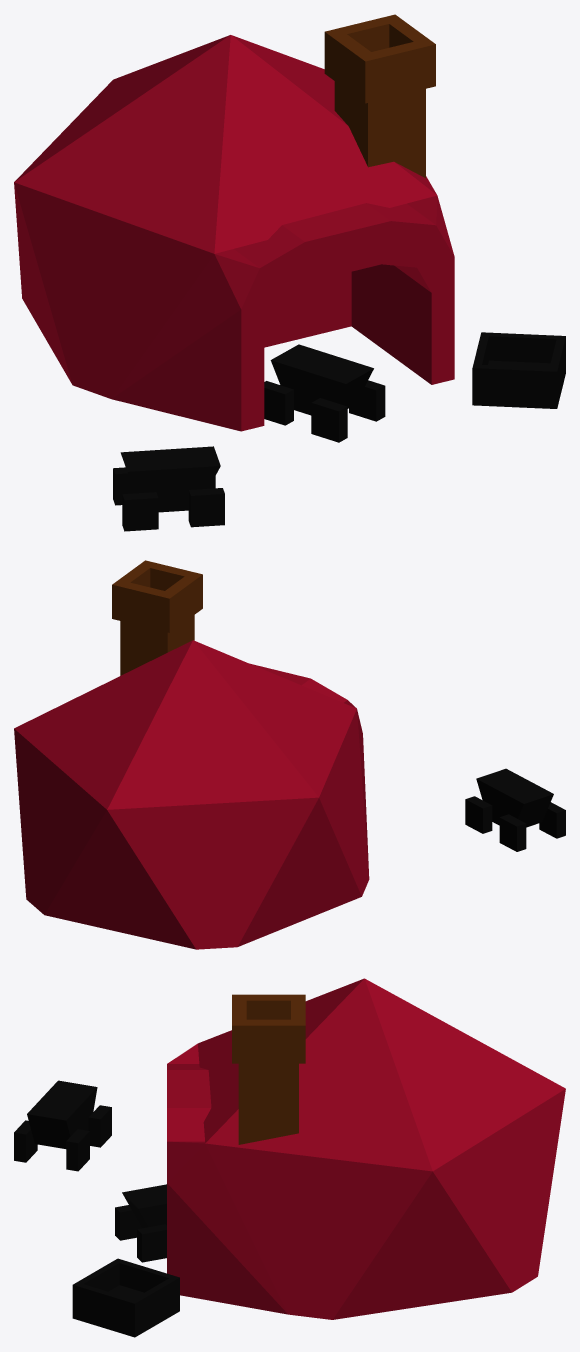
The model's file is mine.glb.
The picture shows the model from 3 angles, top to bottom: view 1: azimuth 30°, elevation 25°; view 2: azimuth 150°, elevation 25°; view 3: azimuth 270°, elevation 25°; orthographic projection. The views are drawn at different scales.
Visible parts, largest first — view 1: Cube.052; view 2: Cube.052; view 3: Cube.052.
Boxes of the visible parts, x1=… form: Cube.052: x1=14, y1=14, x2=565, y2=531; Cube.052: x1=14, y1=560, x2=565, y2=949; Cube.052: x1=14, y1=978, x2=565, y2=1337.
Bounding box in the file's own units: 227 × 138 × 245.
